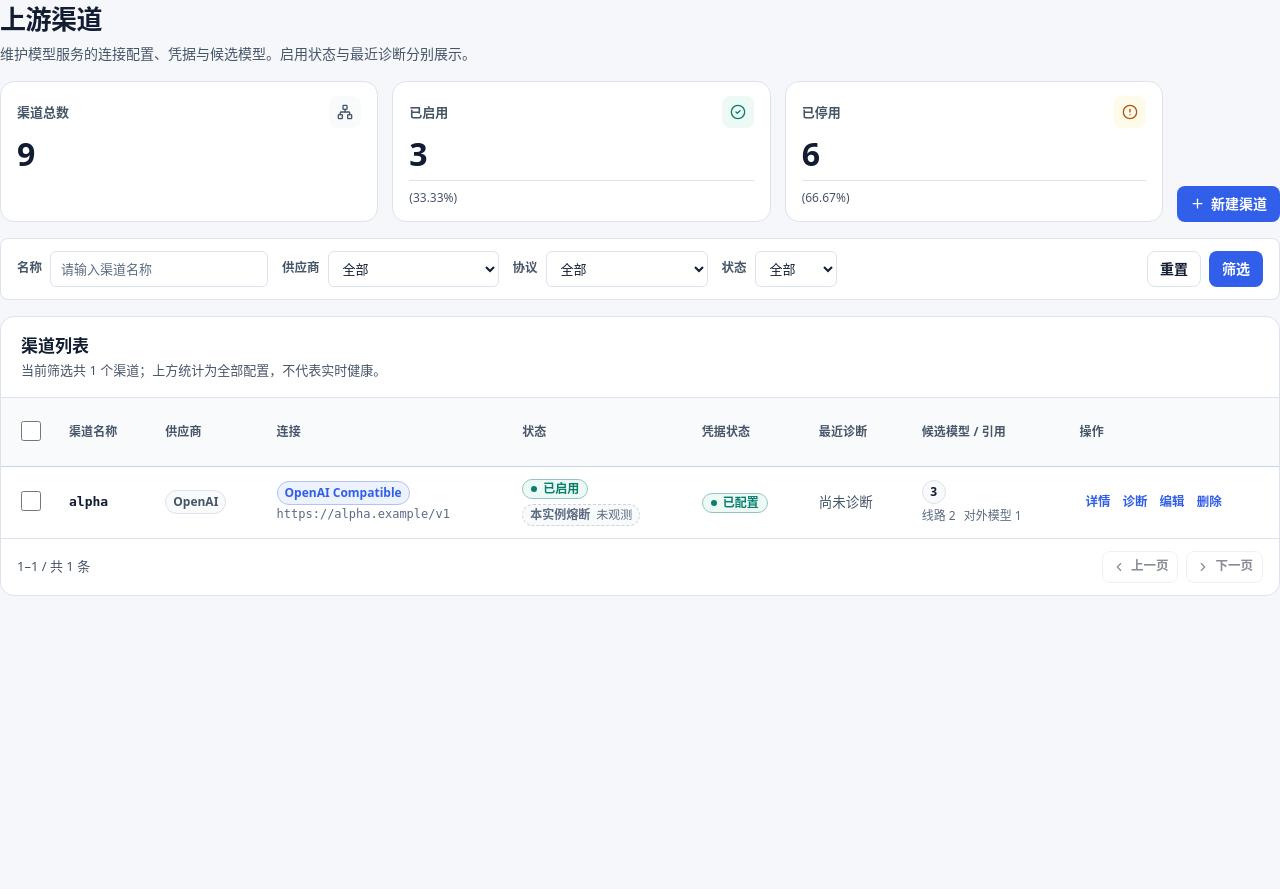
Scenario: ProvidersPage channel facts › keeps an edit draft after a save failure and refreshes the actual saved channel after retry
Check: the text "alpha" is shown, box [69,494,108,509]
Step 1. Click the button "编辑" → (1172, 502), box [1154,489,1191,516]
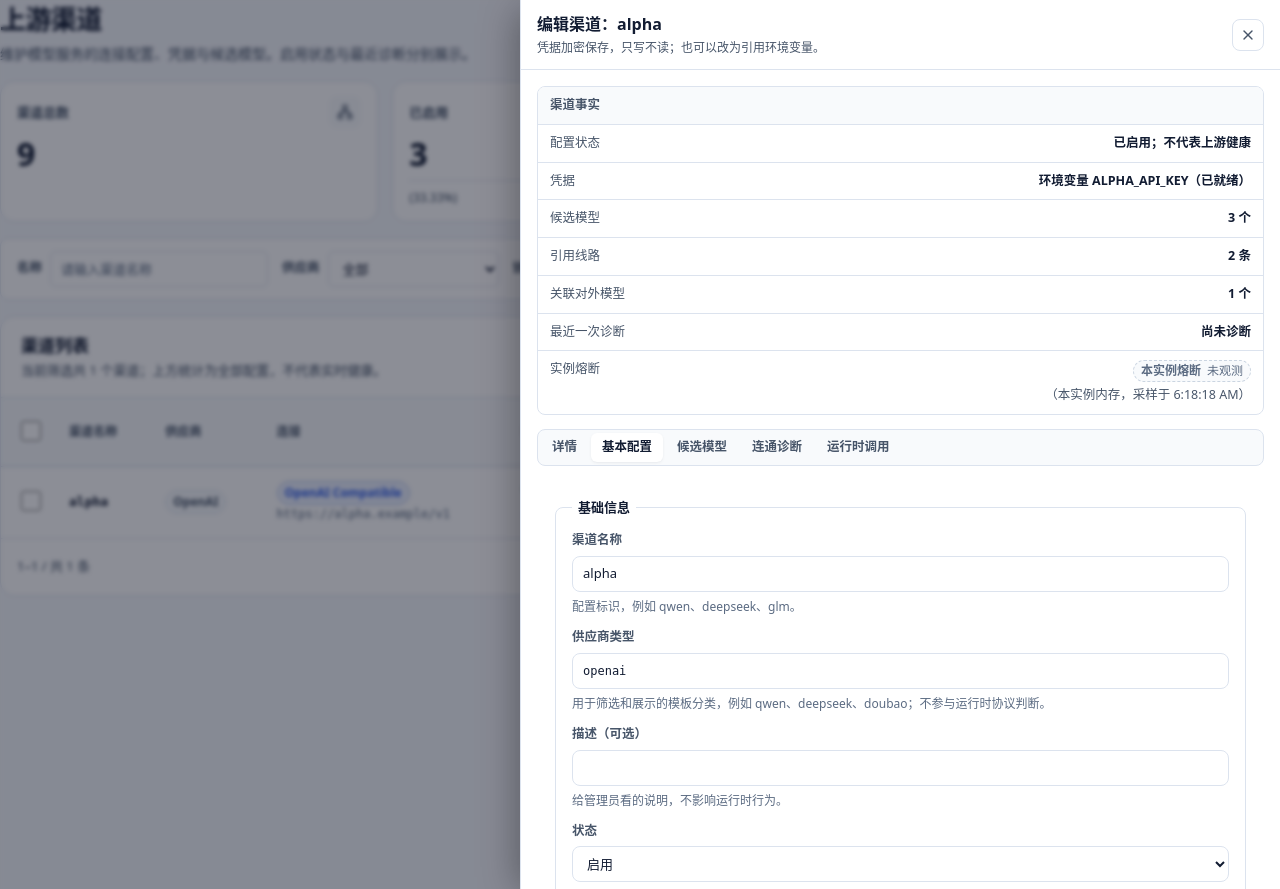
Step 2. Replace the text in the field labelled "渠道名称 配置标识，例如 qwen、deepseek、glm。" with "alpha-updated" → (900, 574), box [572,556,1229,592]
(page scrolled)
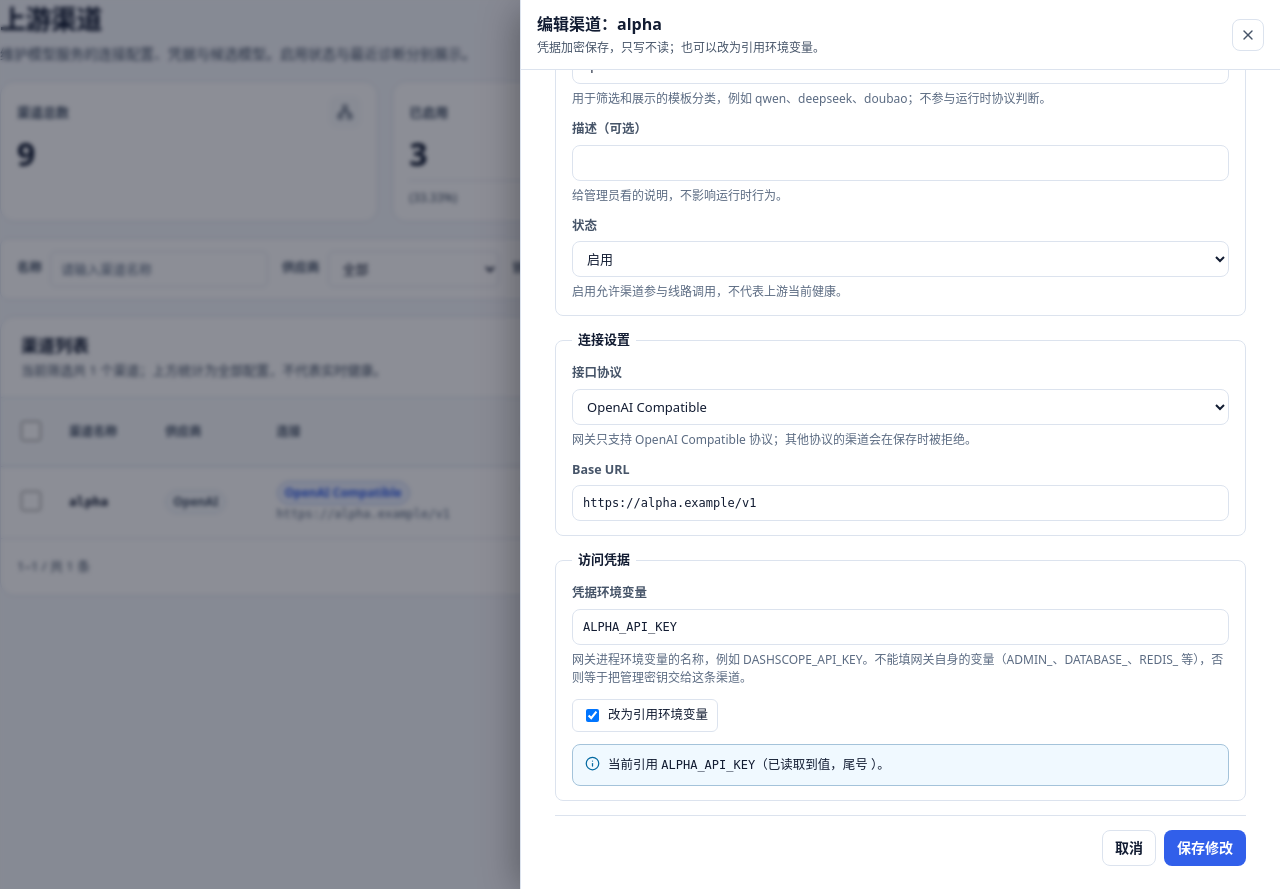
Step 3. Click the button "保存修改" → (1205, 848), box [1164,830,1246,866]
(page scrolled)
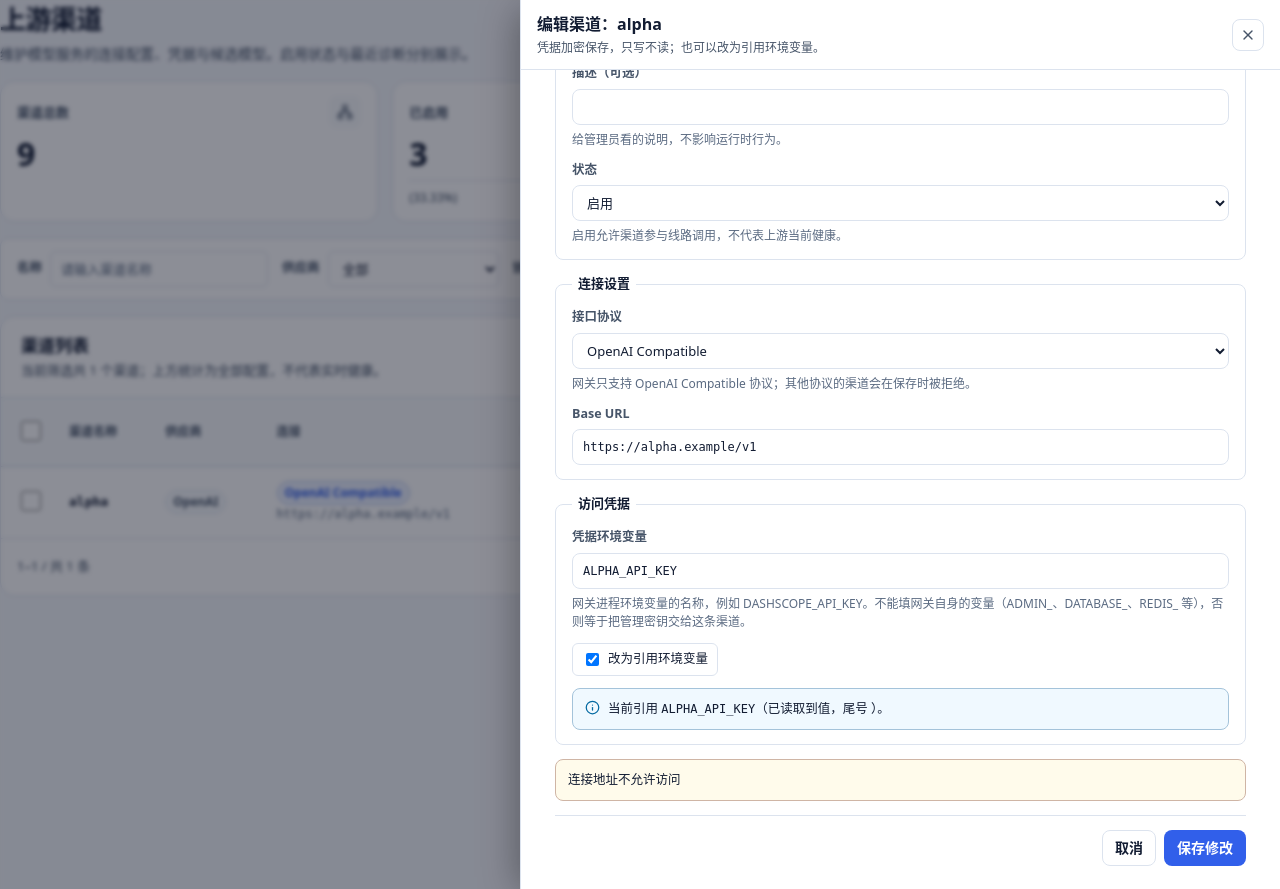
Check: the message reads "连接地址不允许访问", box [568,771,680,788]
Step 4. Click the button "保存修改" → (1205, 848), box [1164,830,1246,866]
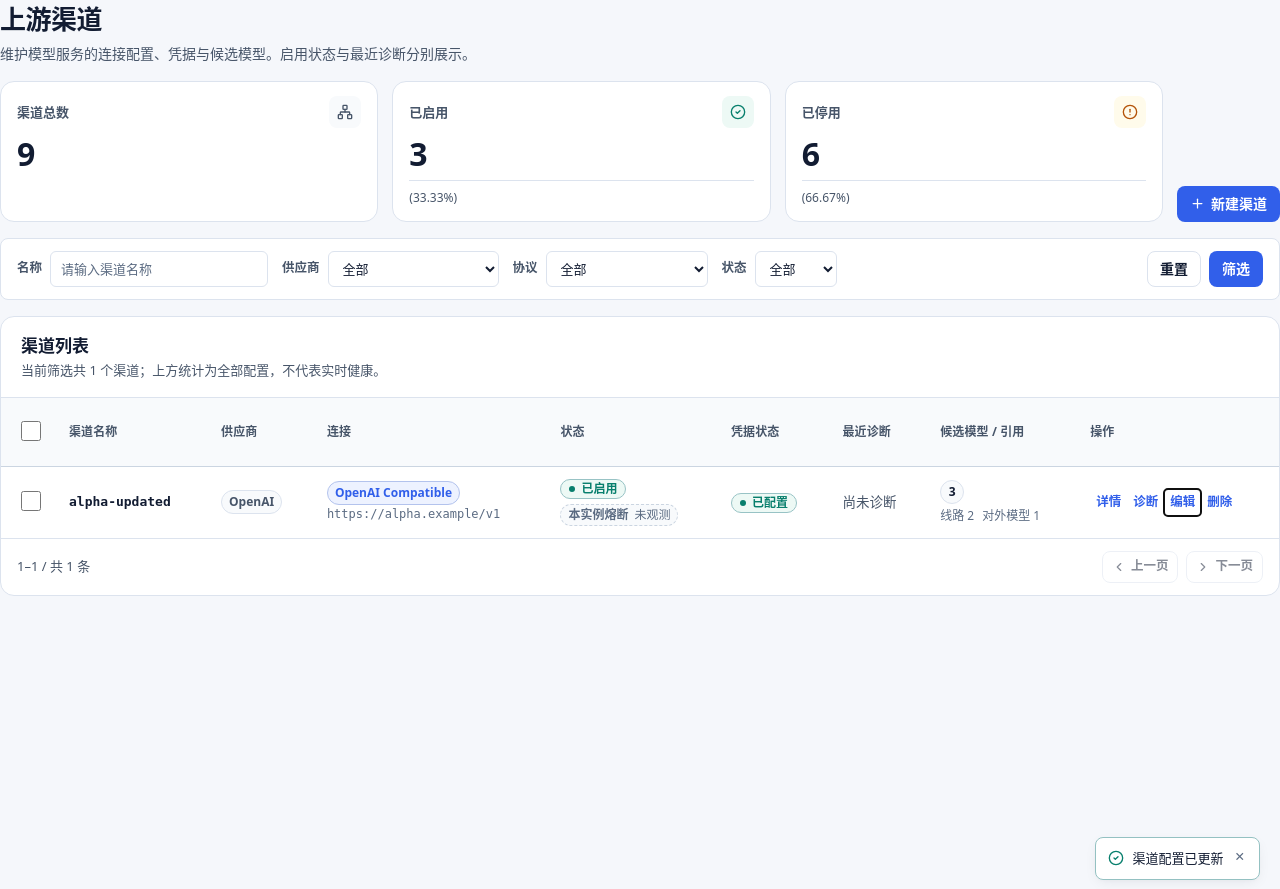
Check: the text "alpha-updated" is shown, box [69,494,171,509]
